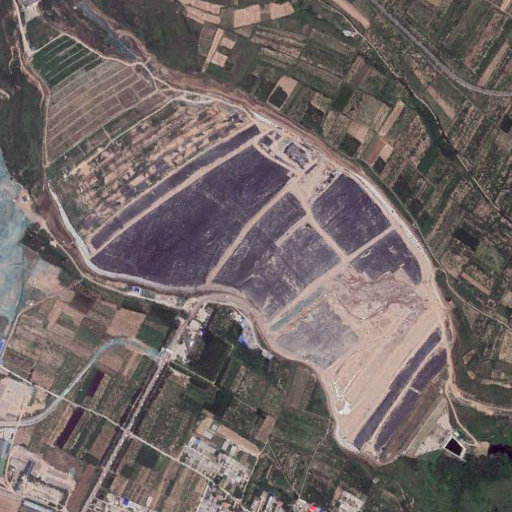lf: (83, 123, 451, 465)
